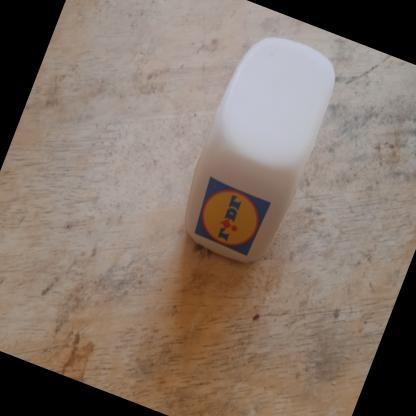Cube: (164, 19, 350, 276)
